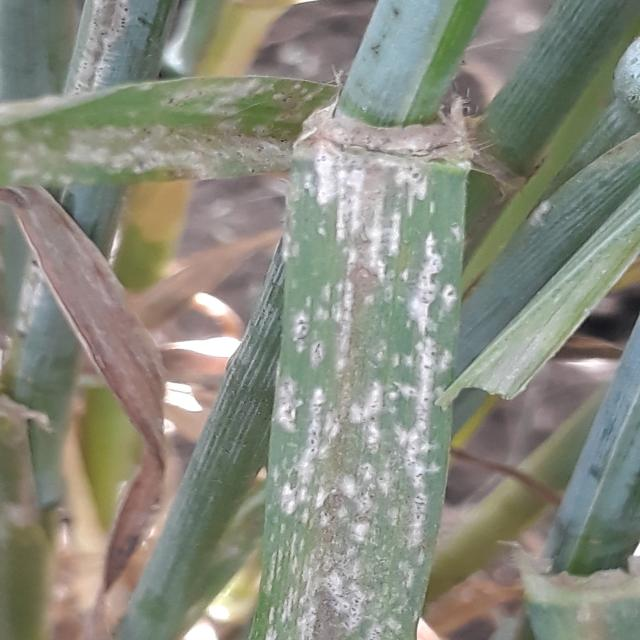powder_mildew: (2, 73, 569, 640)
